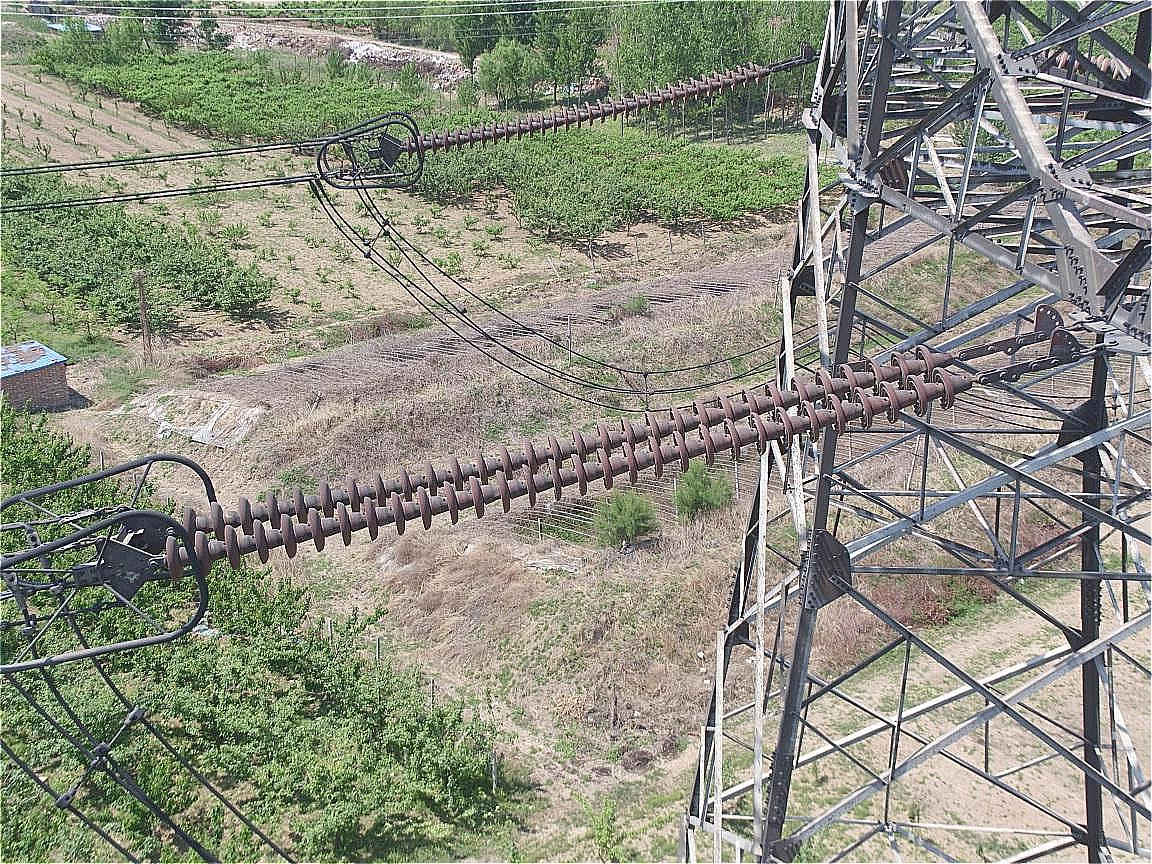insultor1: (125, 341, 998, 587), (390, 47, 773, 166)
